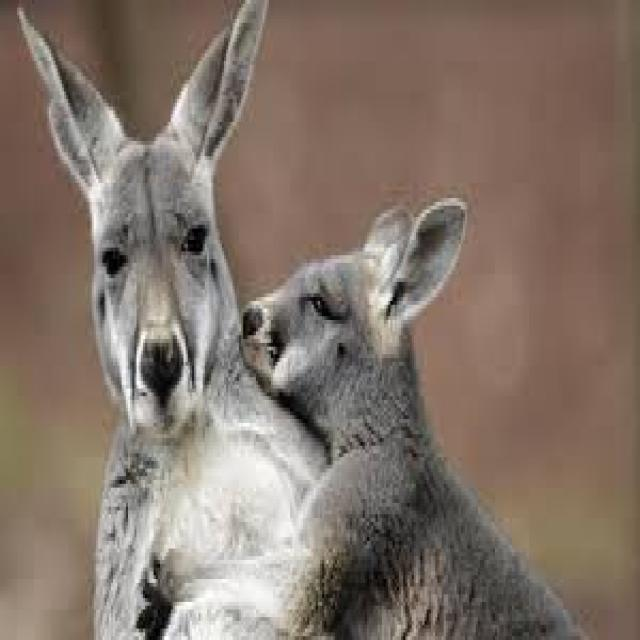Kangaroo: (7, 0, 334, 640), (140, 187, 598, 640)
